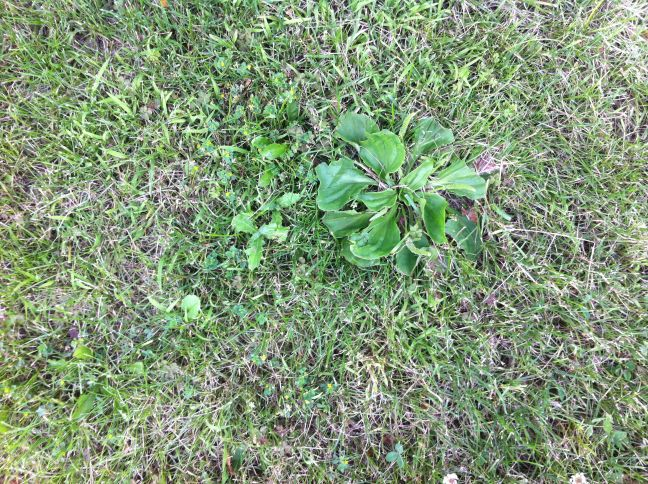weed1: (317, 108, 490, 277)
